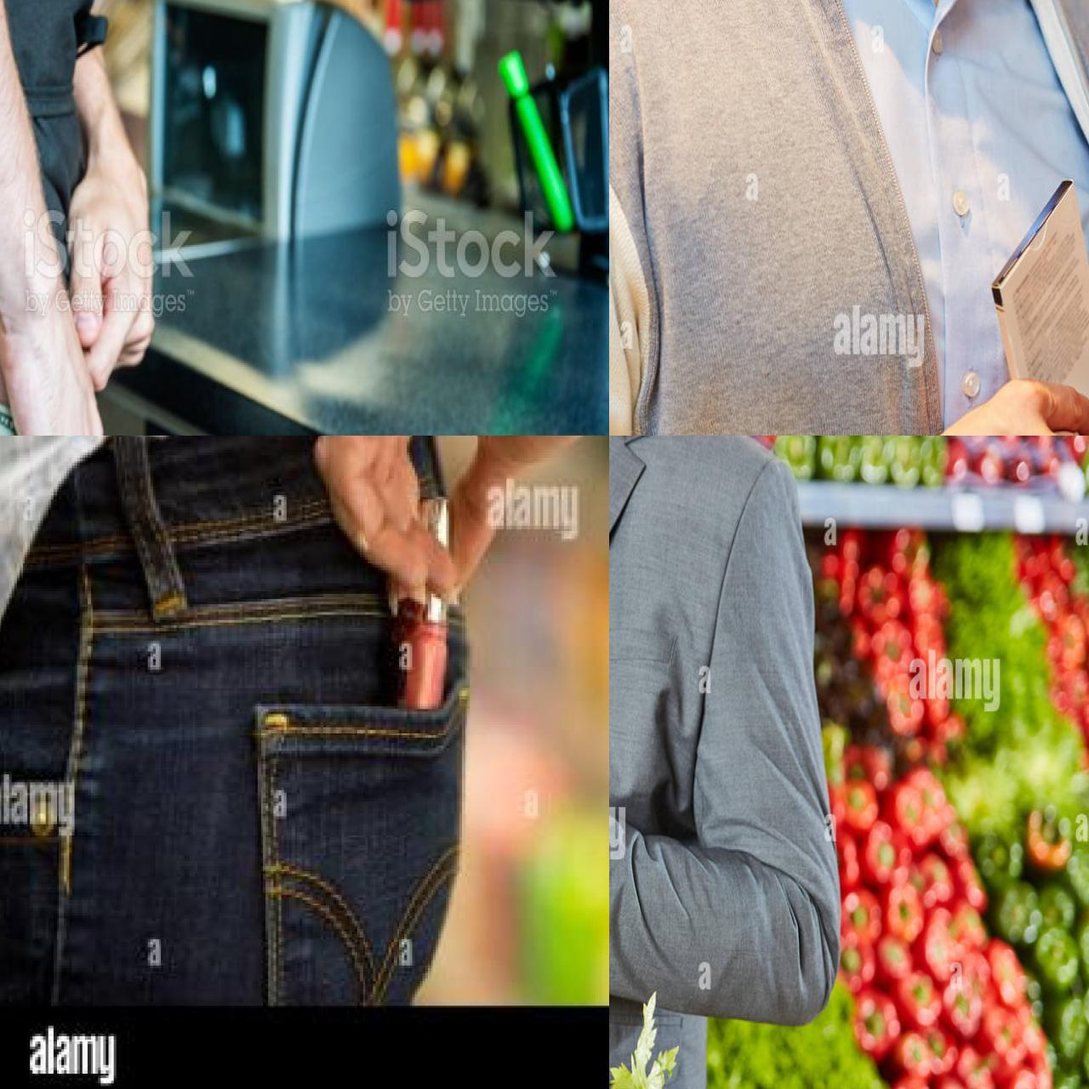shoplifting: (0, 438, 604, 1021)
